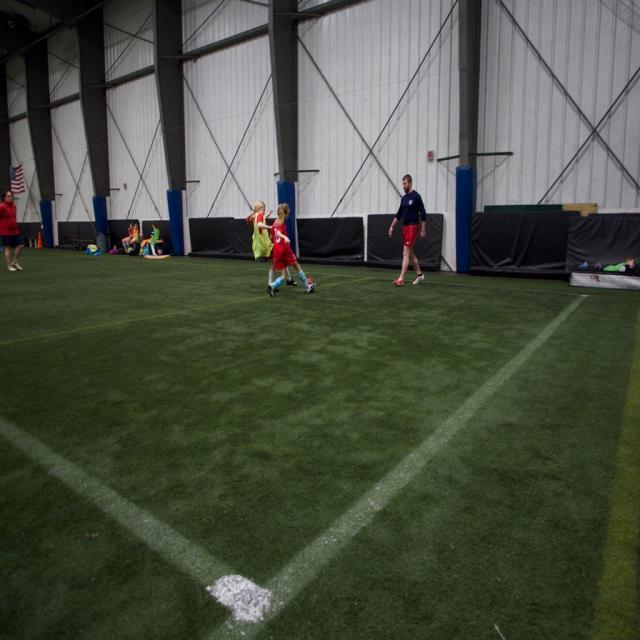ball: (307, 277, 314, 293)
